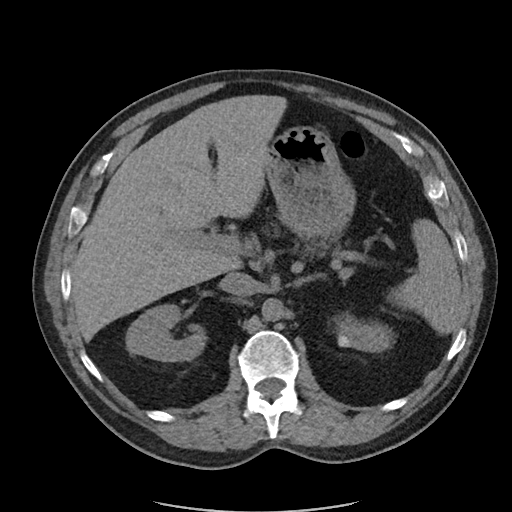Lesion: (335, 334, 353, 351)
